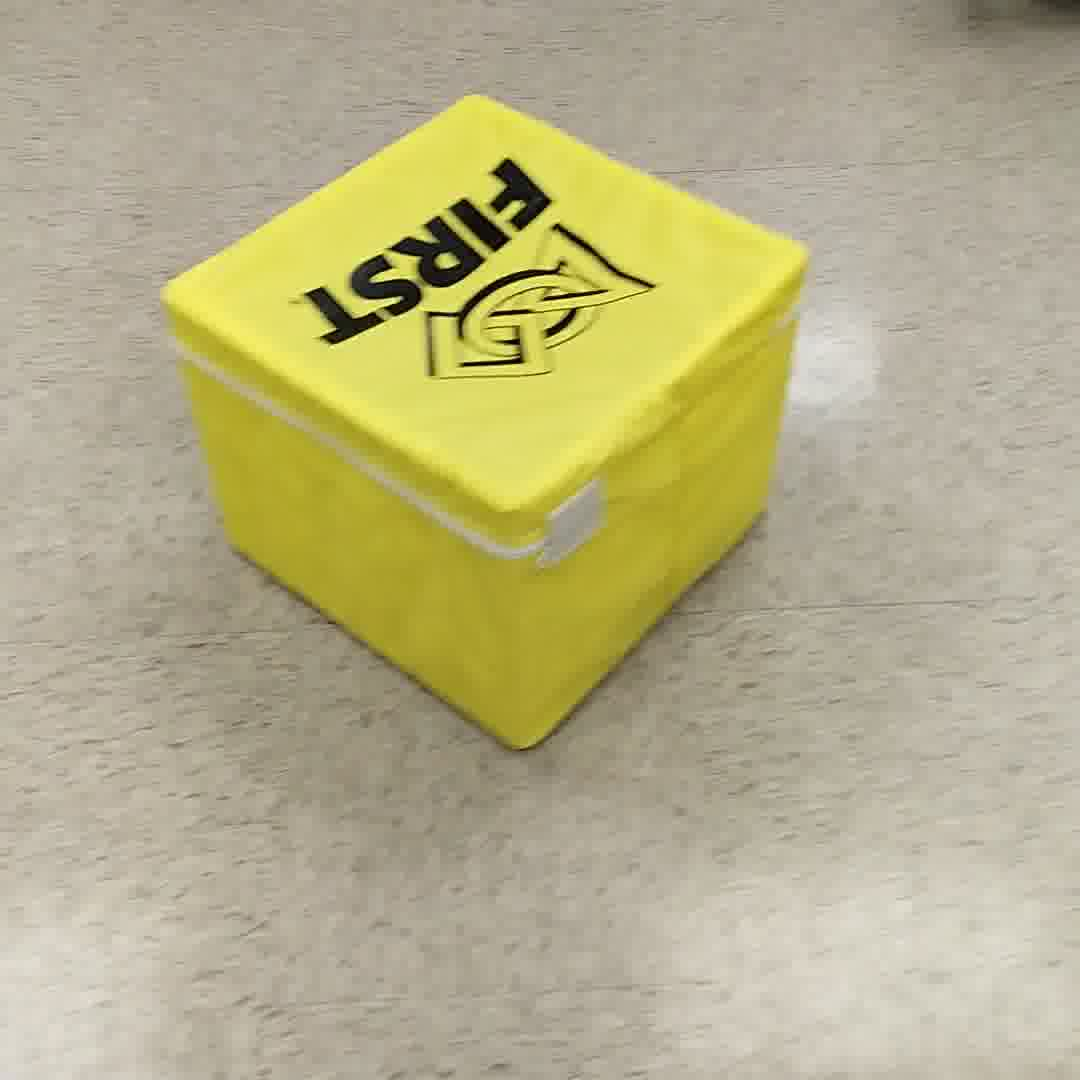box: (147, 96, 819, 752)
